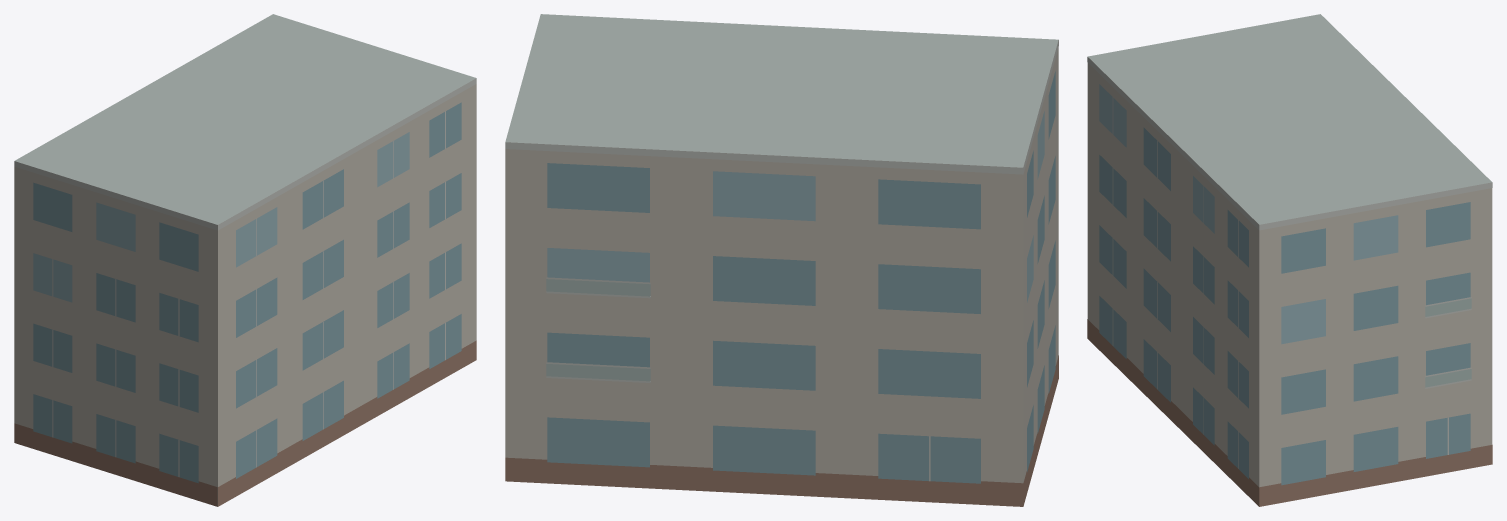
File: residential-a268c87a-07e4-4ae3-ae9a-330fcfa74e3f.glb
3 renders of one model, left to right at view 1: azimuth 30°, elevation 25°; view 2: azimuth 150°, elevation 25°; view 3: azimuth 270°, elevation 25°, orthographic. The views are drawn at different scales.
Visible parts, largest first — view 1: residential-a268c87a-07e4-4ae3-ae9a-330fcfa74e3f.tmp; view 2: residential-a268c87a-07e4-4ae3-ae9a-330fcfa74e3f.tmp; view 3: residential-a268c87a-07e4-4ae3-ae9a-330fcfa74e3f.tmp.
Part boxes in pixels (x1,y1,x2,y2): residential-a268c87a-07e4-4ae3-ae9a-330fcfa74e3f.tmp: [14, 14, 476, 506]; residential-a268c87a-07e4-4ae3-ae9a-330fcfa74e3f.tmp: [505, 14, 1058, 506]; residential-a268c87a-07e4-4ae3-ae9a-330fcfa74e3f.tmp: [1087, 14, 1492, 506].
Bounding box in the file's own units: 19.57 × 12.2 × 15.89.
